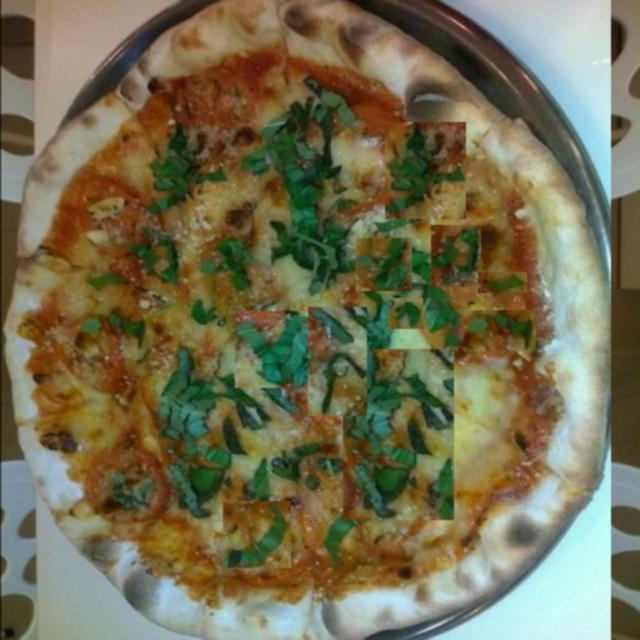basil: (247, 75, 351, 296), (342, 349, 453, 520), (154, 208, 246, 383), (382, 122, 464, 219), (307, 307, 366, 416), (234, 311, 313, 388), (222, 501, 290, 568), (261, 444, 342, 490), (430, 225, 480, 287), (462, 310, 535, 351), (355, 238, 411, 291), (388, 298, 422, 329), (477, 272, 526, 293)
pizza: (0, 0, 610, 640)
